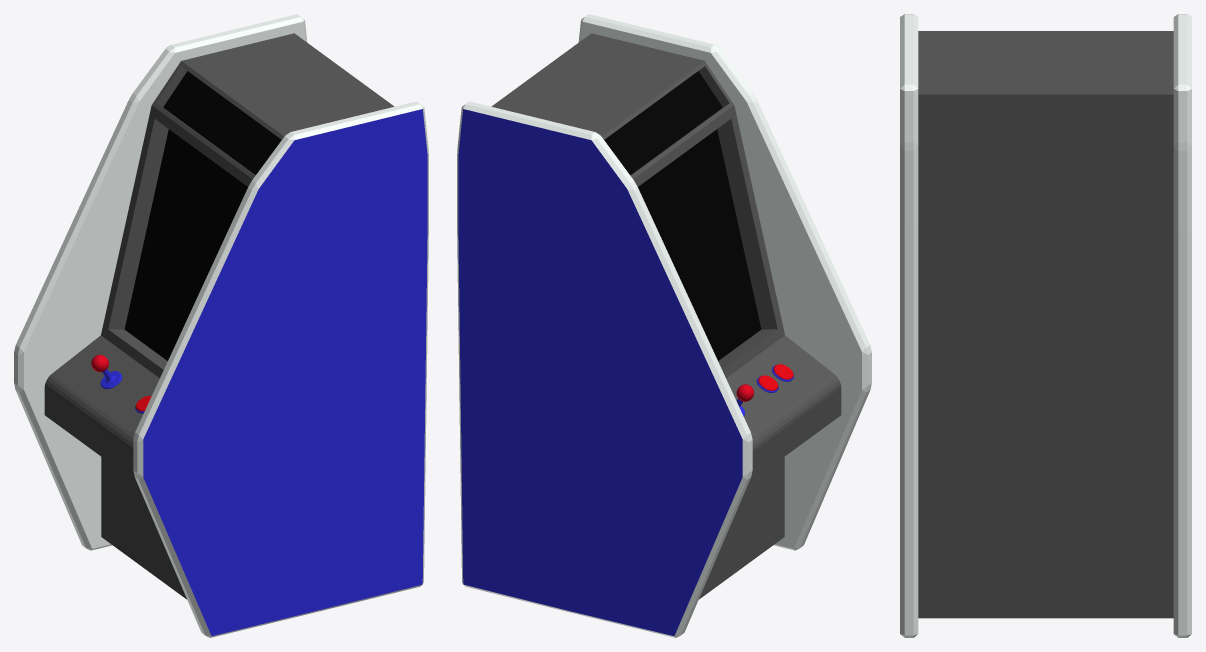
File: arcade machine.fbx
3 views of the same model, side by side, from view 1: azimuth 30°, elevation 25°; view 2: azimuth 150°, elevation 25°; view 3: azimuth 270°, elevation 25° (orthographic). The views are drawn at different scales.
Visible parts, largest first — view 1: machine; view 2: machine; view 3: machine.
Boxes of the visible parts, box(x1,y1,x2,y2) form: machine: box(14, 14, 428, 637); machine: box(457, 14, 871, 637); machine: box(900, 14, 1191, 637).
Bounding box in the file's own units: 302 × 478 × 228.
